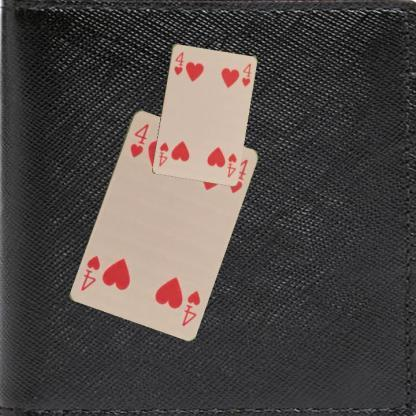4h: (178, 288, 202, 328), (127, 121, 150, 159), (171, 49, 185, 76), (225, 150, 237, 178)
